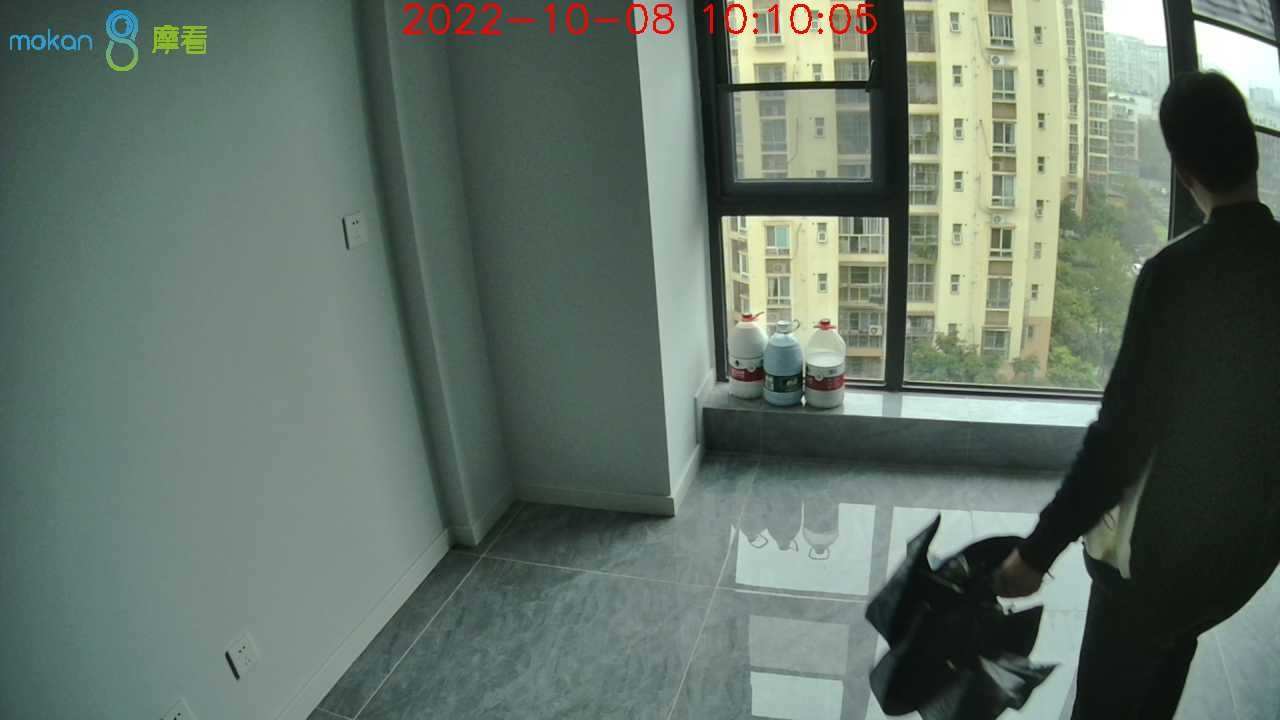people: (994, 70, 1278, 720)
window: (698, 3, 1280, 393)
